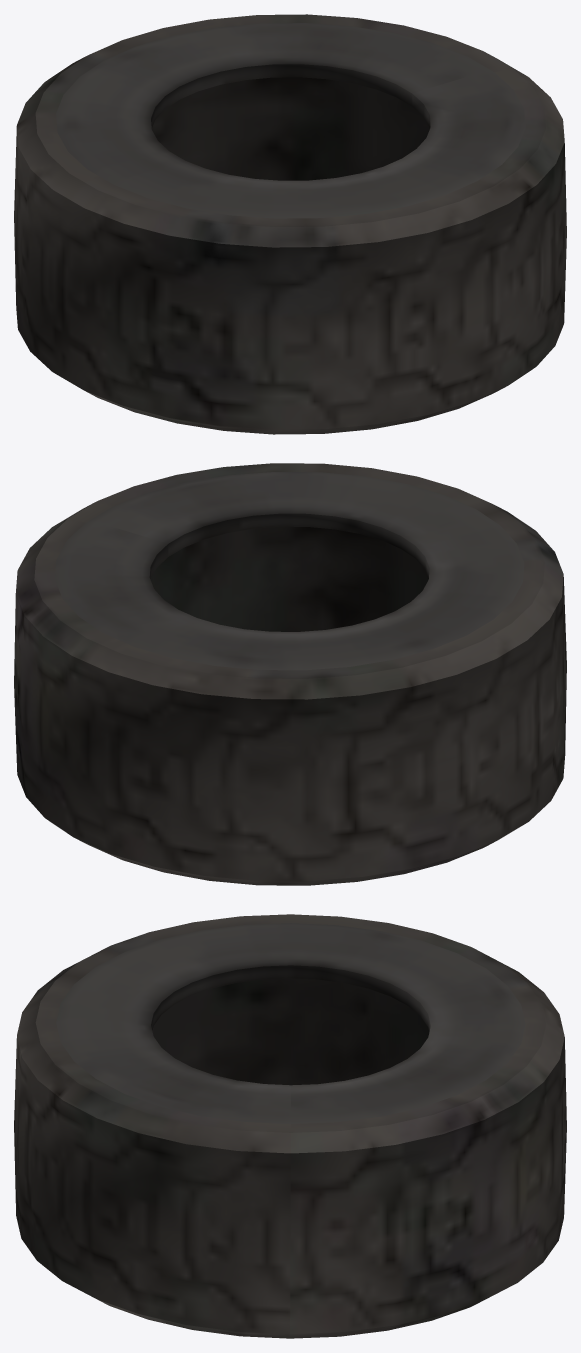
Rendered from tyre--1.gltf.
3 views of the same model, one above another, from view 1: azimuth 30°, elevation 25°; view 2: azimuth 150°, elevation 25°; view 3: azimuth 270°, elevation 25° (orthographic).
Visible parts, largest first — view 1: opon; view 2: opon; view 3: opon.
Part boxes in pixels (x1,y1,x2,y2): opon: [14, 14, 566, 434]; opon: [14, 463, 566, 885]; opon: [14, 914, 566, 1338].
Size of the model in its own units: 0.7917 by 0.3405 by 0.7917.
Materials: 1 (1 with a texture image).
